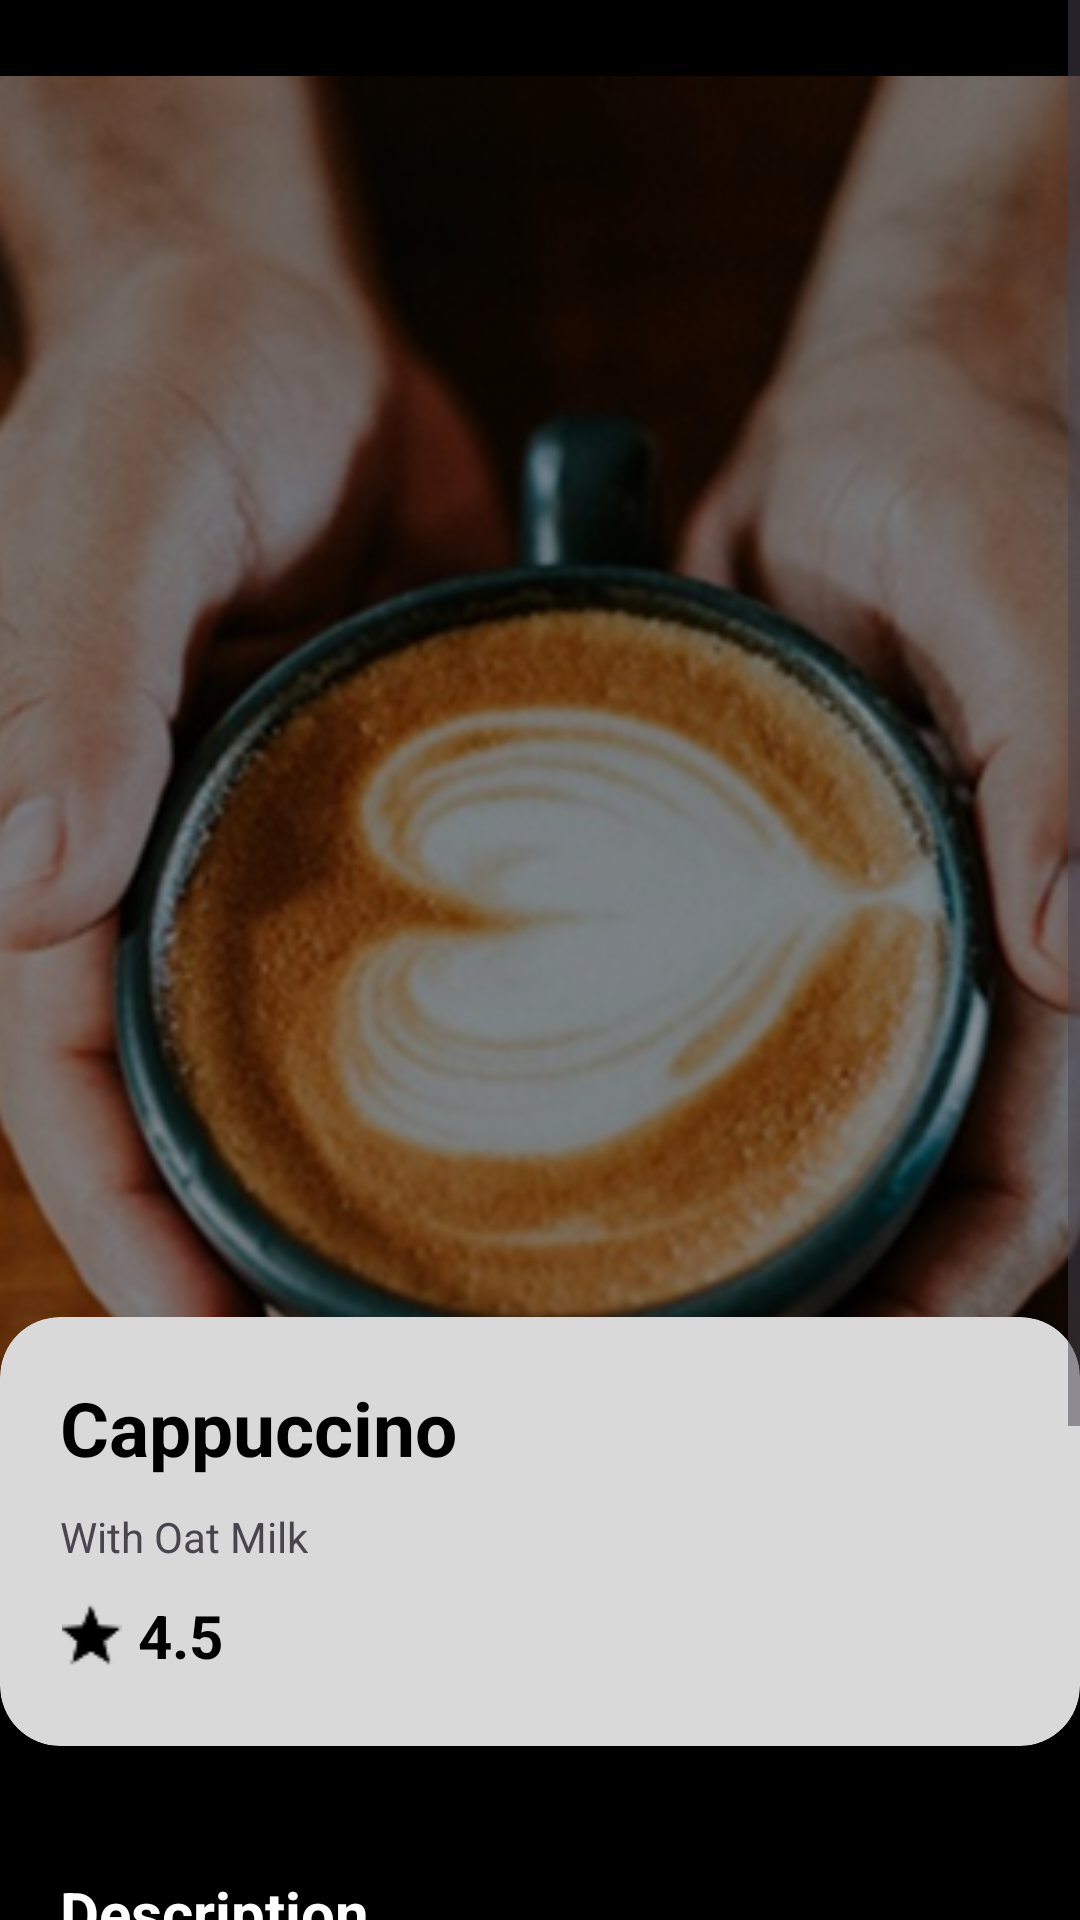

Locate icon controls on the screen. Image size 1080px×1920px, boxes as (x1, y1, x2, y2).
star: (62, 1606, 122, 1665)
